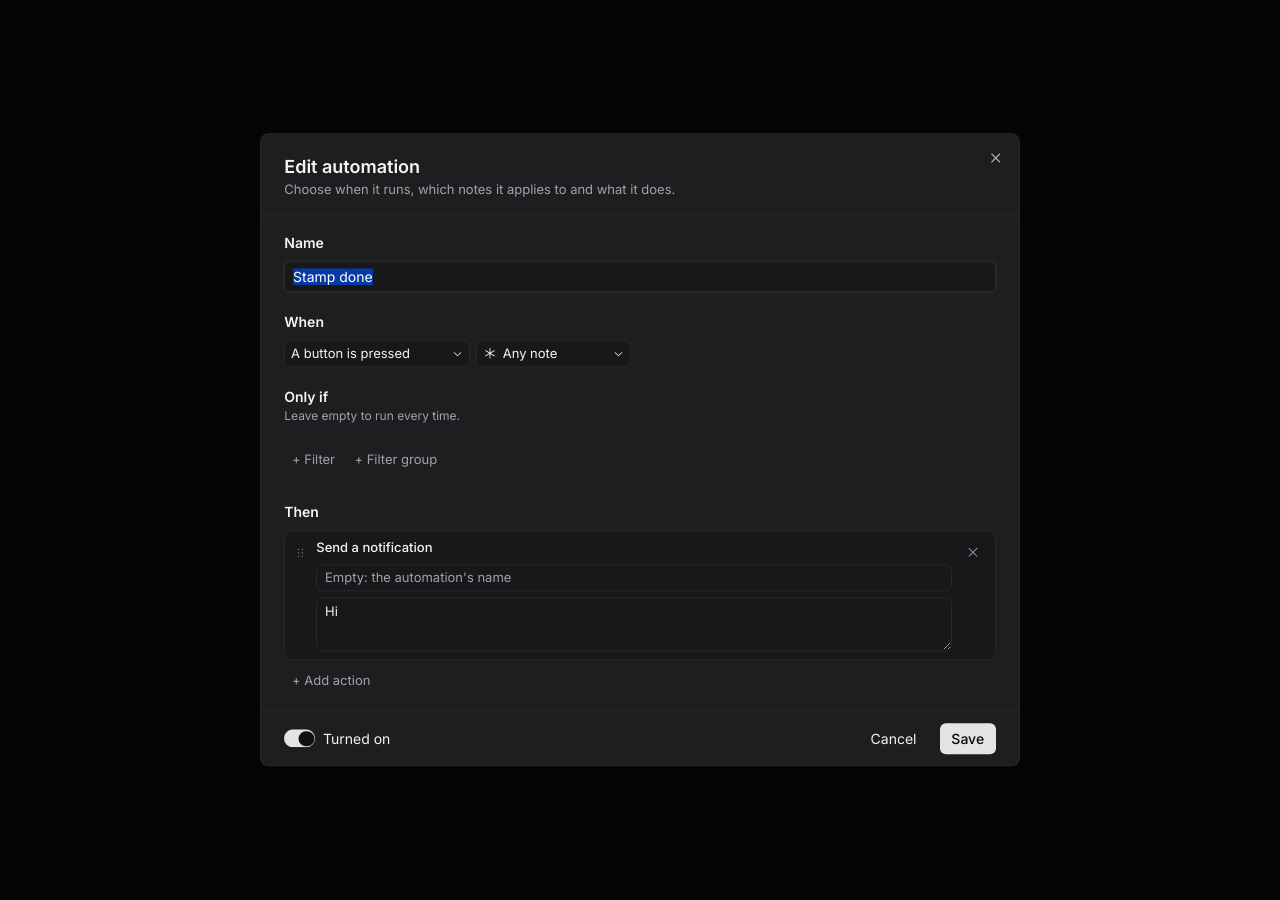
Test case: RuleEditorDialog › shows the server's 422 message and stays open
Click the button "Save".
click(968, 739)  # box [940,723,996,754]
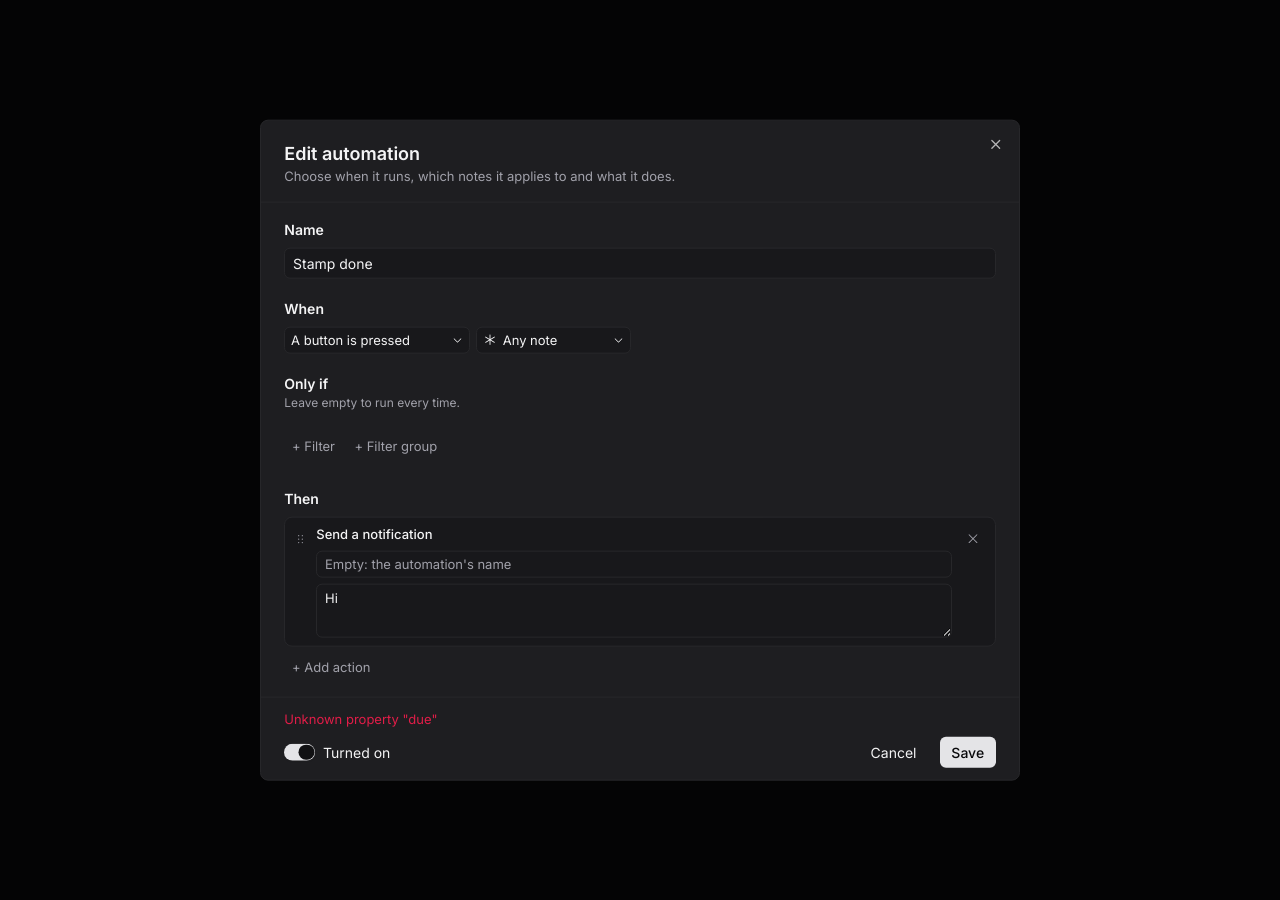
expect the message reads "Unknown property \"due\"": met, box [284,710,438,726]
